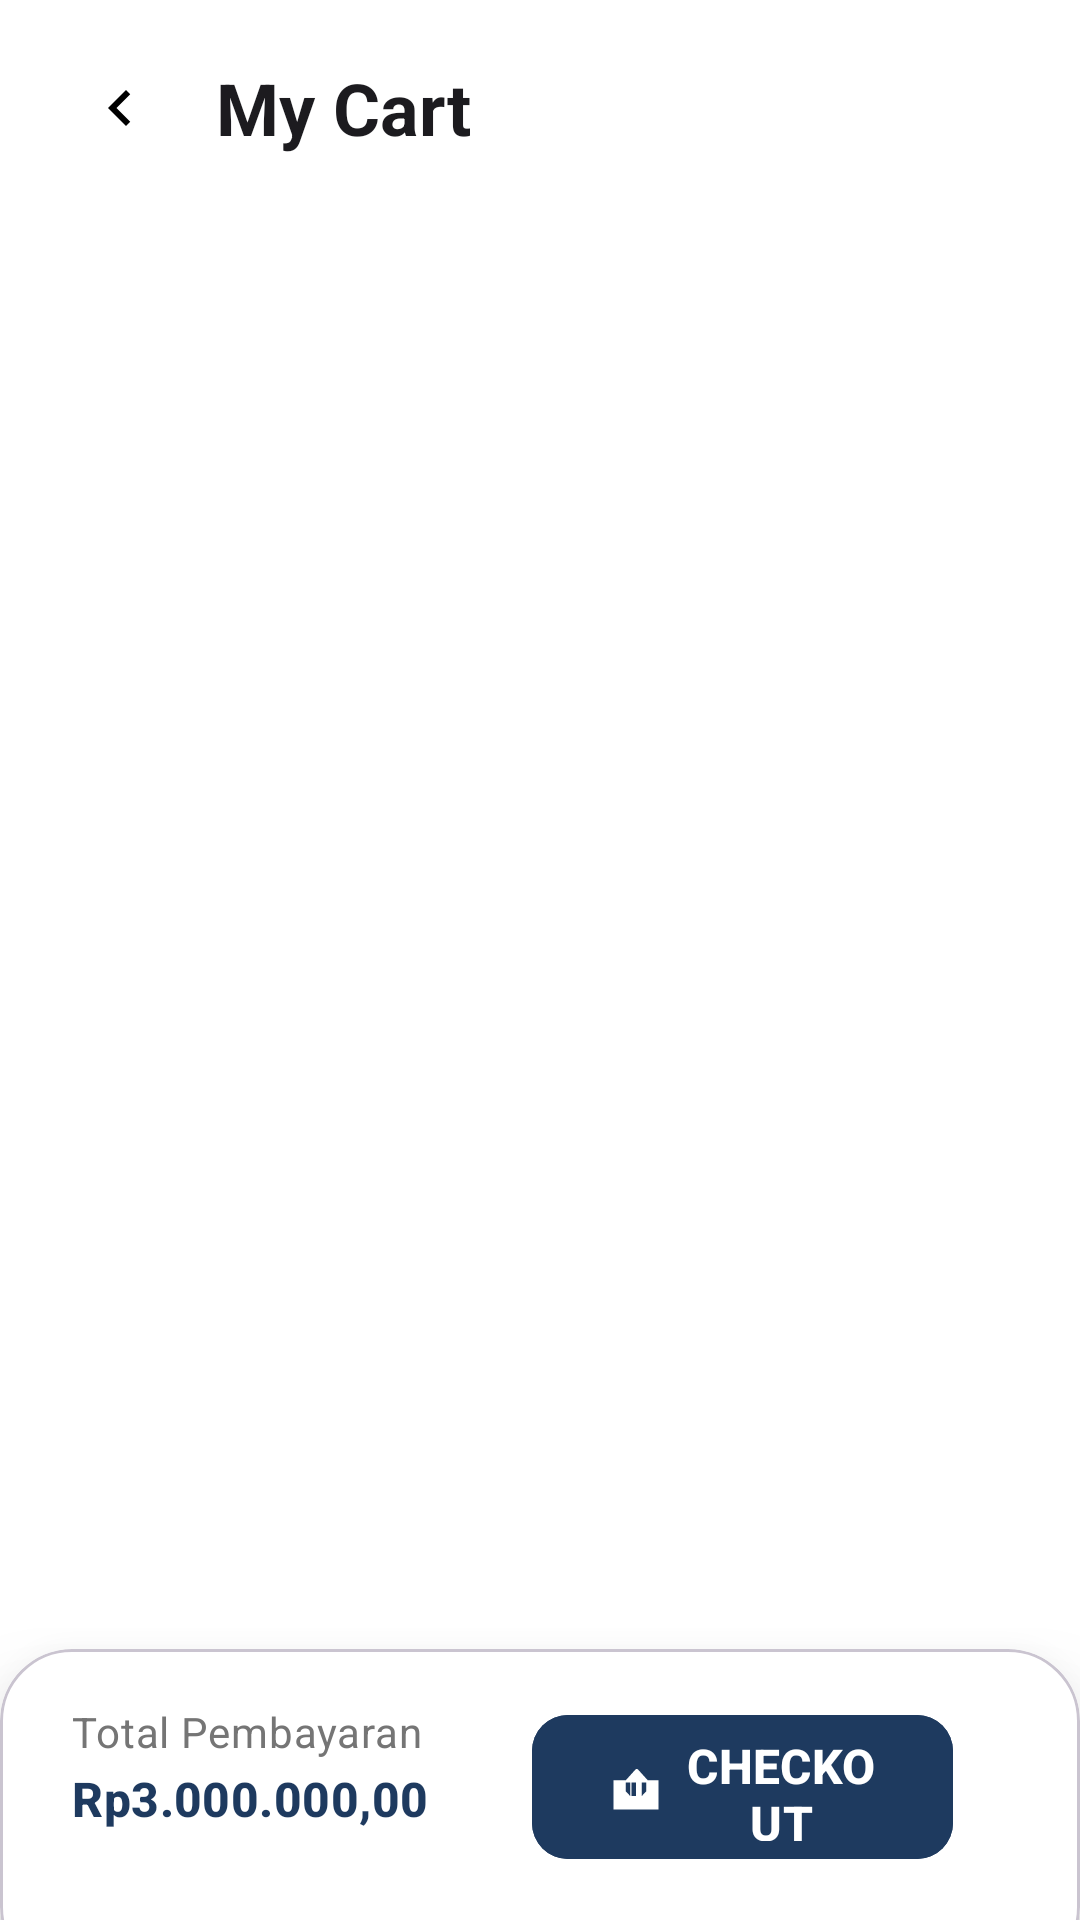

Icon click points for this 1080*1920 phone screenshot, format [x,y]:
Back: [119,108]
